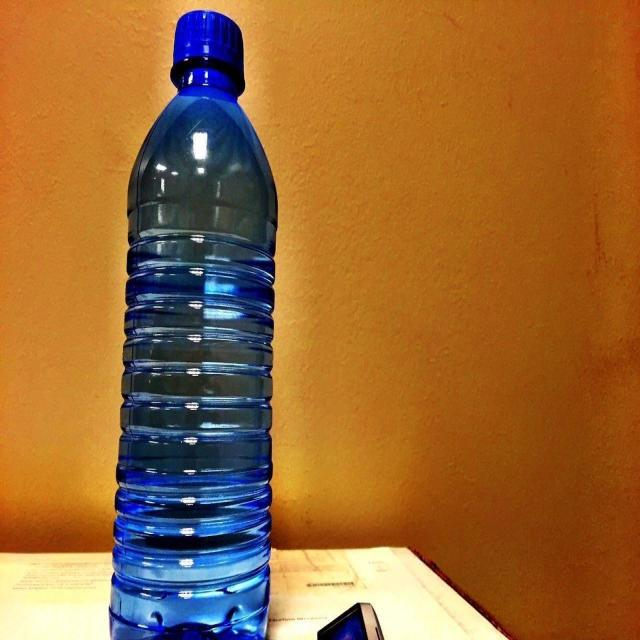plastic bottle: (107, 5, 282, 639)
